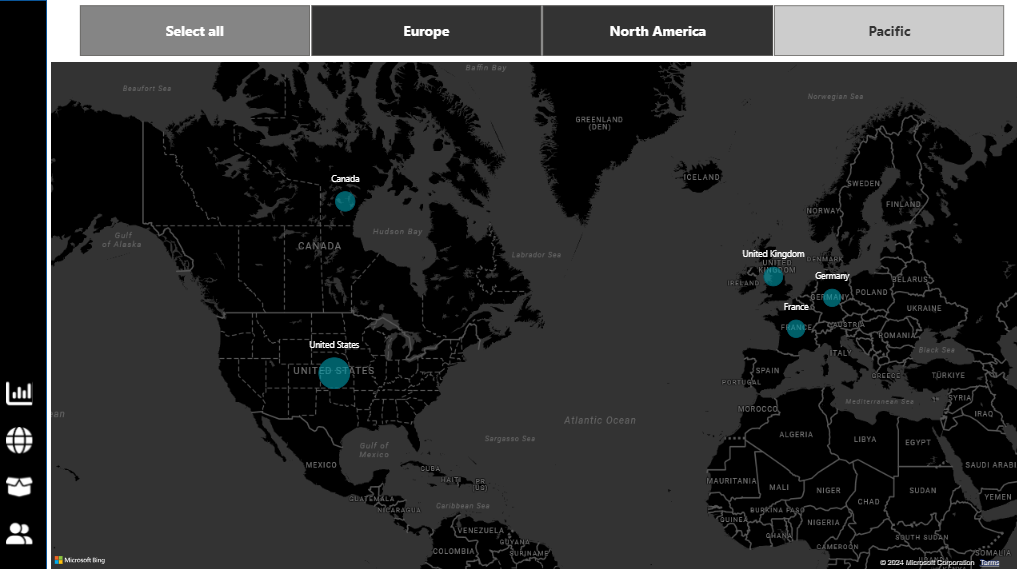

This screenshot's page, from the dashboard's own definition file:
{"tool":"powerbi","page":{"name":"Maps","canvas":[1280,720],"ordinal":1},"visuals":[{"type":"shape","box":[0,0,60,720],"z":0},{"type":"actionButton","box":[5.3,472.2,52.2,41.1],"z":1000,"group":"g1"},{"type":"map","fields":{"Category":["Territory Lookup.Country"],"Size":["Measures  Table.Total orders"]},"box":[60,72.2,1220,647.8],"z":1000},{"type":"slicer","fields":{"Values":["Territory Lookup.Continent"]},"box":[74.4,0,1205.6,76.7],"z":2000},{"type":"actionButton","box":[5.3,530.7,52.2,41.1],"z":2000,"group":"g1"},{"type":"actionButton","box":[5.3,589.2,52.2,41.1],"z":3000,"group":"g1"},{"type":"group","id":"g1","title":"Navigation Buttons","box":[5.3,472.2,52.2,216.7],"z":3000},{"type":"actionButton","box":[5.3,647.8,52.2,41.1],"z":4000,"group":"g1"}]}

Visuals, with their boxes on the page's 1280x720 design canvas (x1, y1, x2, y2). These are canvas units, not pixel positions in the 1017x569 screenshot, which may show the page scaled, cropped or inside an application window:
shape: bbox=[0, 0, 60, 720]
actionButton: bbox=[5, 472, 58, 513]
map - Territory Lookup.Country x Measures  Table.Total orders: bbox=[60, 72, 1280, 720]
slicer - Territory Lookup.Continent: bbox=[74, 0, 1280, 77]
actionButton: bbox=[5, 531, 58, 572]
actionButton: bbox=[5, 589, 58, 630]
"Navigation Buttons" group: bbox=[5, 472, 58, 689]
actionButton: bbox=[5, 648, 58, 689]
